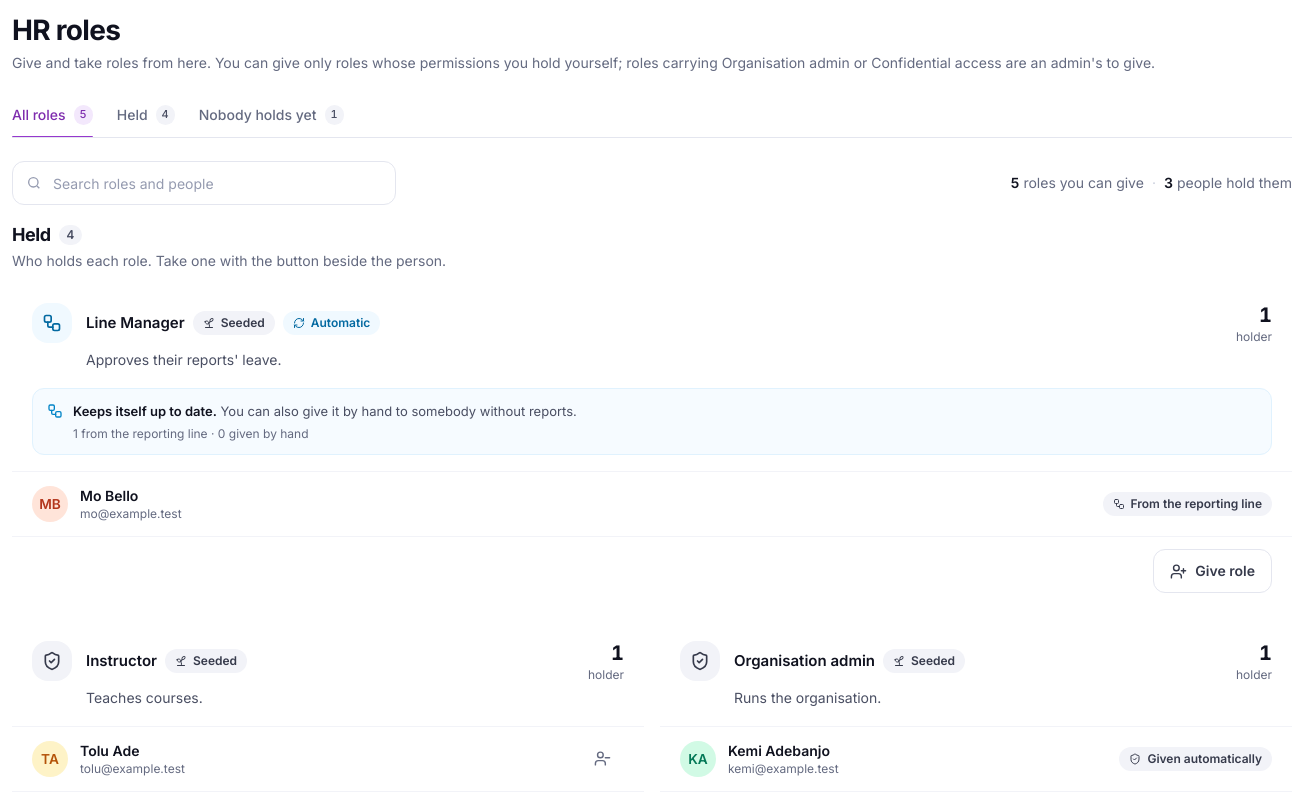
Test: HrRolesBoard › finds roles by a holder's name, and says how many it is showing
In the search field labelled "Search roles and people": coordinates (204, 183) [12,161,396,205], type "tolu"
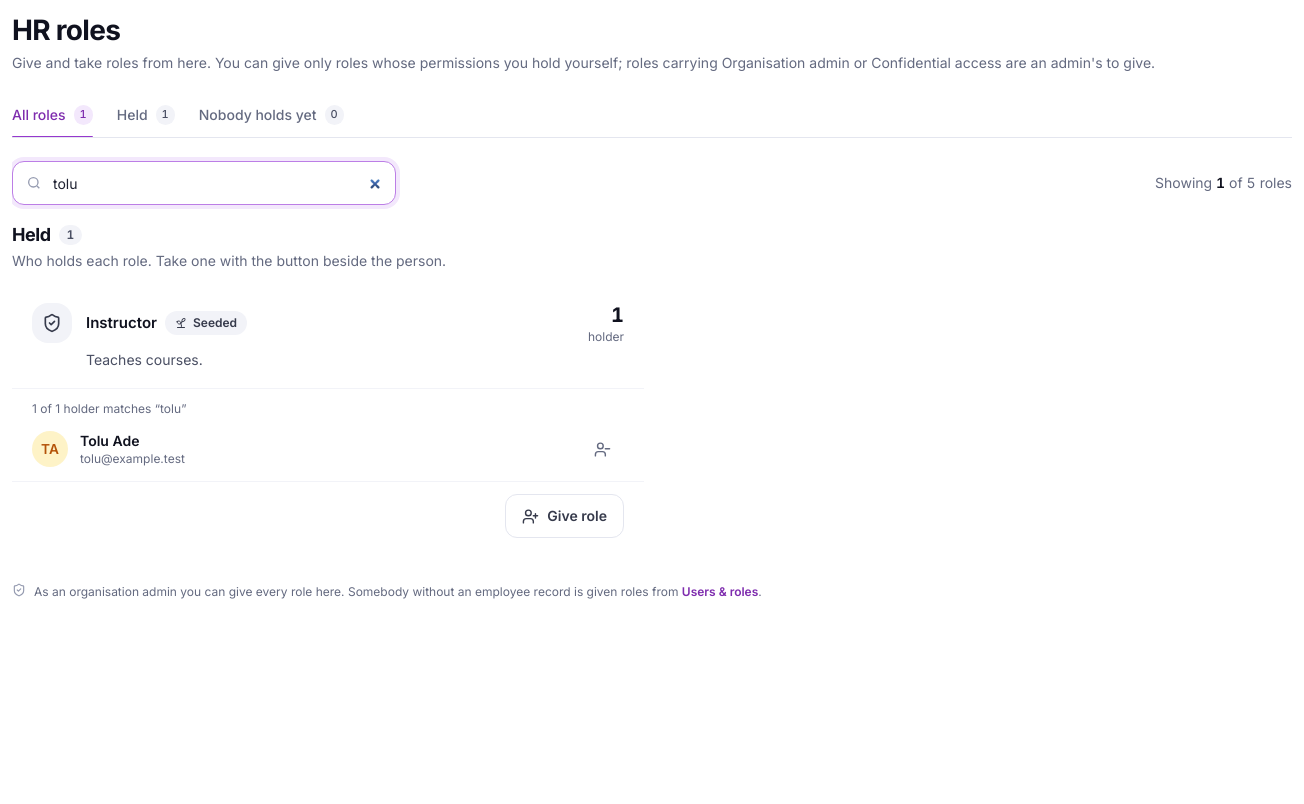
Expected: the heading "Instructor" is shown, [86,313,157,334]
Expected: the text "Showing 1 of 5 roles" is shown, [1155,173,1292,193]
